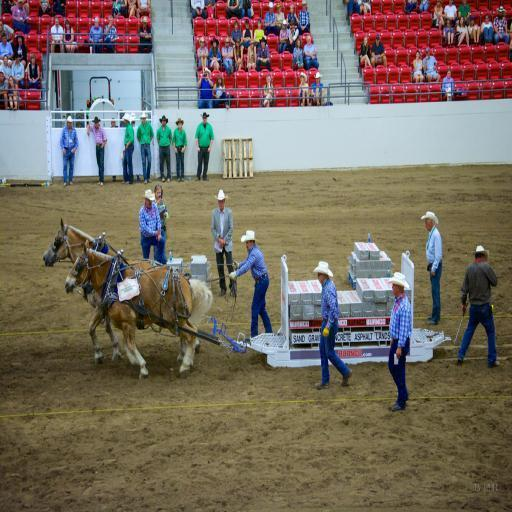horse: (42, 218, 214, 354), (63, 238, 214, 380)
